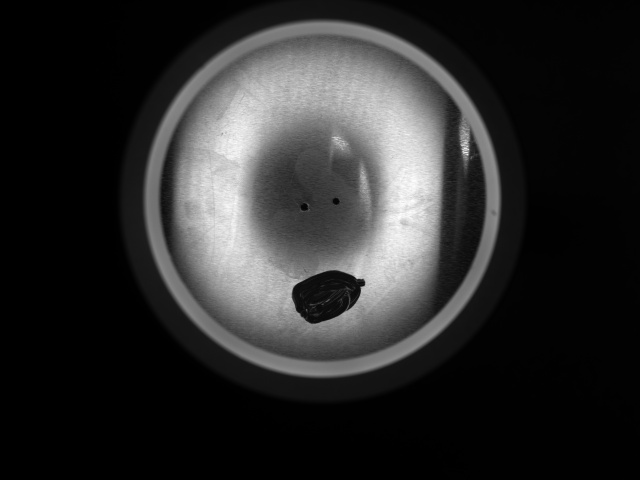zang_wu: (291, 268, 367, 324)
zhen_kong: (298, 200, 310, 214), (332, 202, 341, 207)
